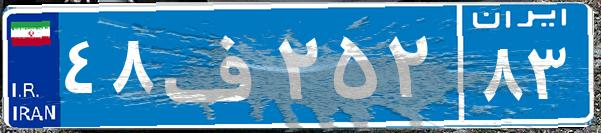2: (385, 28, 445, 110), (273, 28, 330, 110)
3: (525, 38, 570, 115)
4: (57, 26, 110, 107)
5: (330, 28, 385, 110)
8: (475, 38, 525, 113), (110, 28, 158, 105)
ف: (158, 15, 273, 115)
